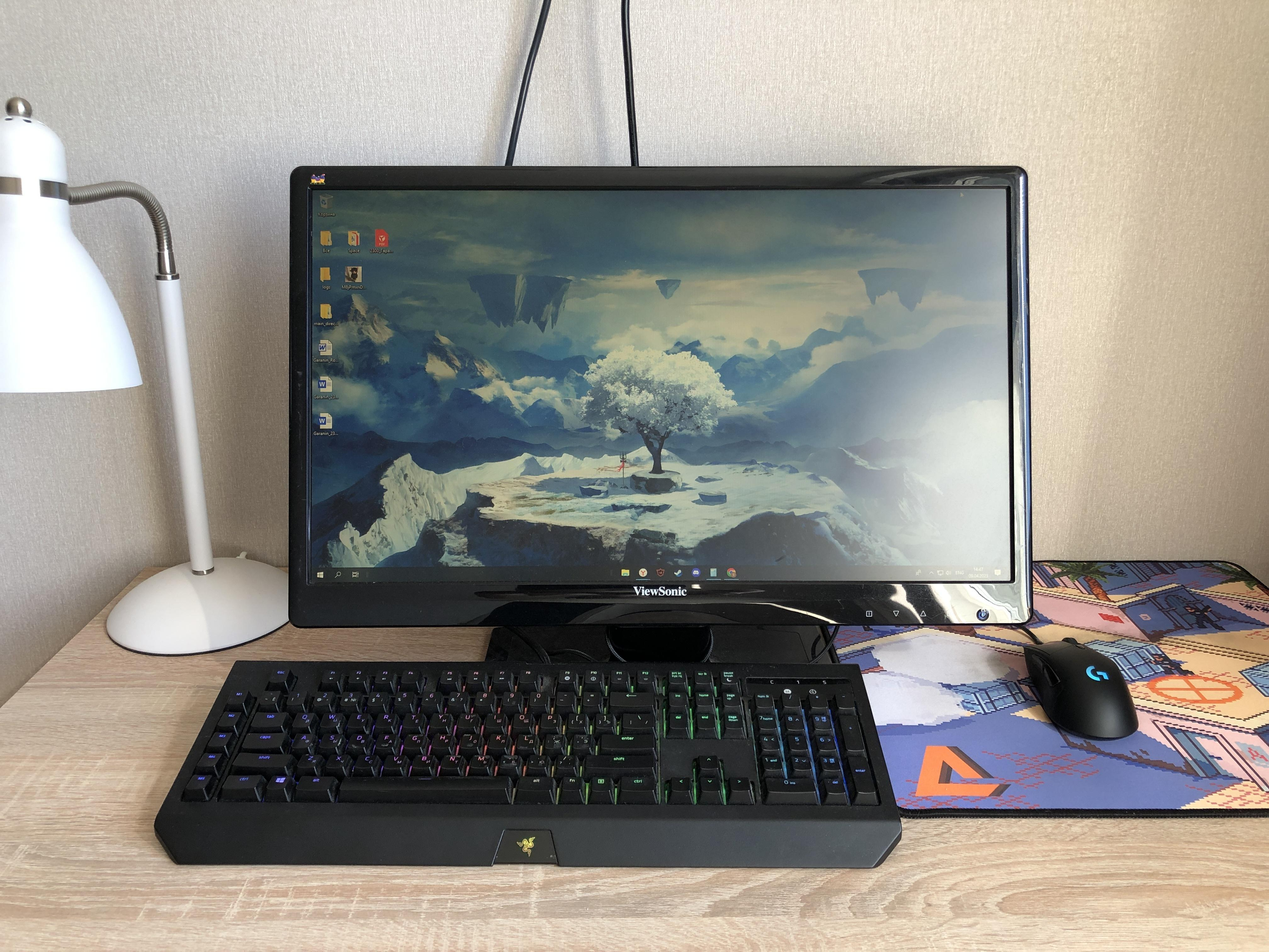monitor: (282, 157, 1043, 626)
